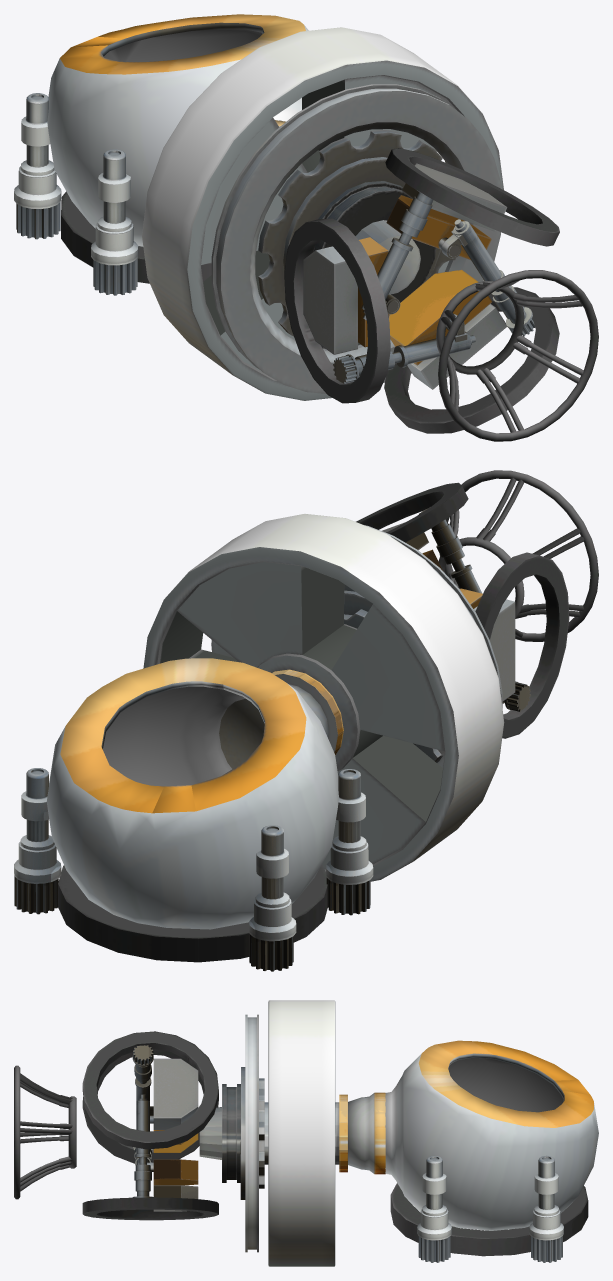
Rendered from zhiqu_neibumoxing_jicang.glb.
3 renders of one model, top to bottom at view 1: azimuth 30°, elevation 25°; view 2: azimuth 150°, elevation 25°; view 3: azimuth 270°, elevation 25°, orthographic. The views are drawn at different scales.
Parts seen in each view (by area): view 1: neibumoxing_bianjiangxitong, neibumoxing_chuandonglian, neibumoxing_jicangneibu, neibumoxing_bianjiangxitongzhou, neibumoxing_pianhangzhuangzhi; view 2: neibumoxing_chuandonglian, neibumoxing_jicangneibu, neibumoxing_pianhangzhuangzhi, neibumoxing_bianjiangxitong, neibumoxing_bianjiangxitongzhou; view 3: neibumoxing_jicangneibu, neibumoxing_bianjiangxitong, neibumoxing_chuandonglian, neibumoxing_pianhangzhuangzhi, neibumoxing_bianjiangxitongzhou.
Boxes of the visible parts, <box> form: neibumoxing_bianjiangxitong: <box>258,129,598,441</box>; neibumoxing_chuandonglian: <box>142,27,503,400</box>; neibumoxing_jicangneibu: <box>47,14,308,246</box>; neibumoxing_bianjiangxitongzhou: <box>211,84,501,393</box>; neibumoxing_pianhangzhuangzhi: <box>14,93,211,295</box>; neibumoxing_chuandonglian: <box>143,514,504,881</box>; neibumoxing_jicangneibu: <box>46,658,338,929</box>; neibumoxing_pianhangzhuangzhi: <box>14,768,373,971</box>; neibumoxing_bianjiangxitong: <box>344,470,598,762</box>; neibumoxing_bianjiangxitongzhou: <box>211,525,502,767</box>; neibumoxing_jicangneibu: <box>385,1040,598,1230</box>; neibumoxing_bianjiangxitong: <box>14,1031,264,1220</box>; neibumoxing_chuandonglian: <box>199,1000,385,1266</box>; neibumoxing_pianhangzhuangzhi: <box>390,1155,588,1262</box>; neibumoxing_bianjiangxitongzhou: <box>245,1014,258,1252</box>.
Size of the model in its own units: 460 by 460 by 1006.
Materials: 1 (1 with a texture image).
